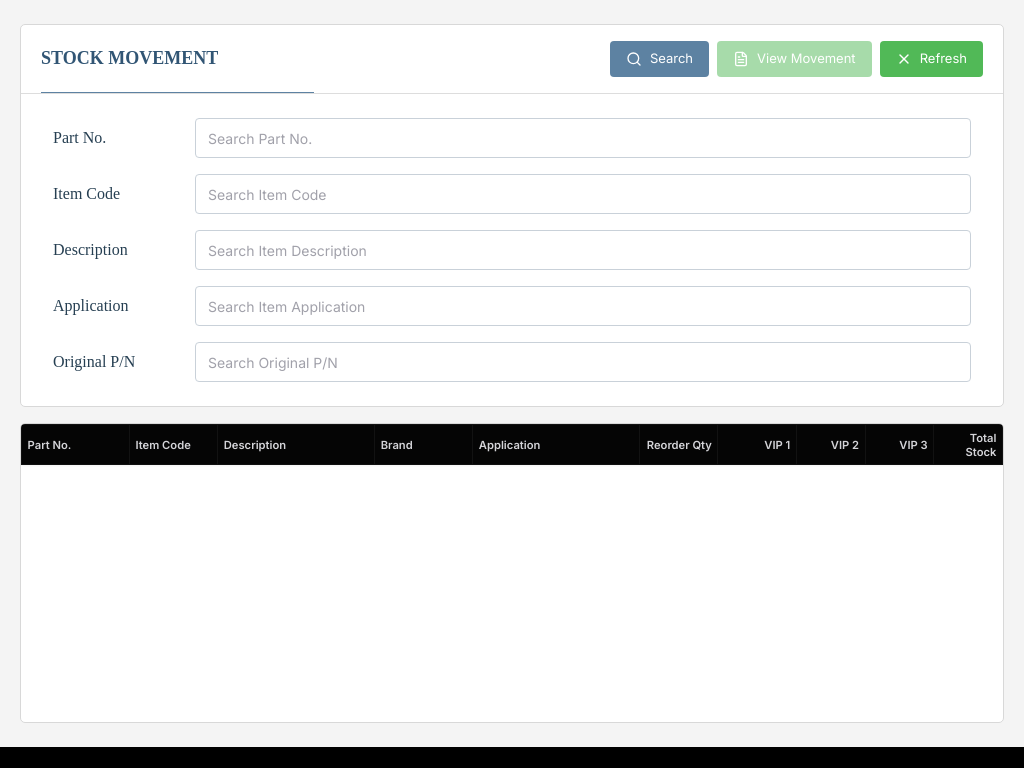
Test: StockMovementView › starts with a blank legacy search grid until Search is submitted
Expected: the text "PN-100" is not shown
Expected: the column heading "Part No." is shown, [22, 424, 129, 465]
What coordinates should you click on to do the following:
click the button "Search"
I would click on:
 (659, 59)
Its box is [610, 41, 709, 77].
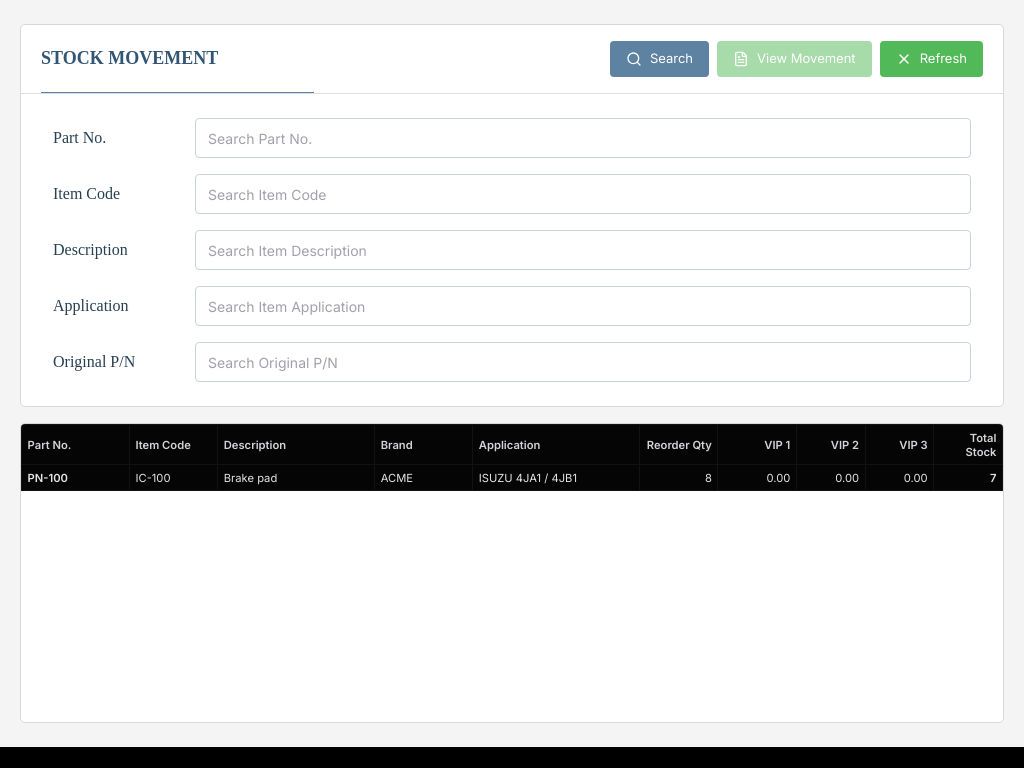
Result: the text "PN-100" is shown at [22, 465, 129, 491]
